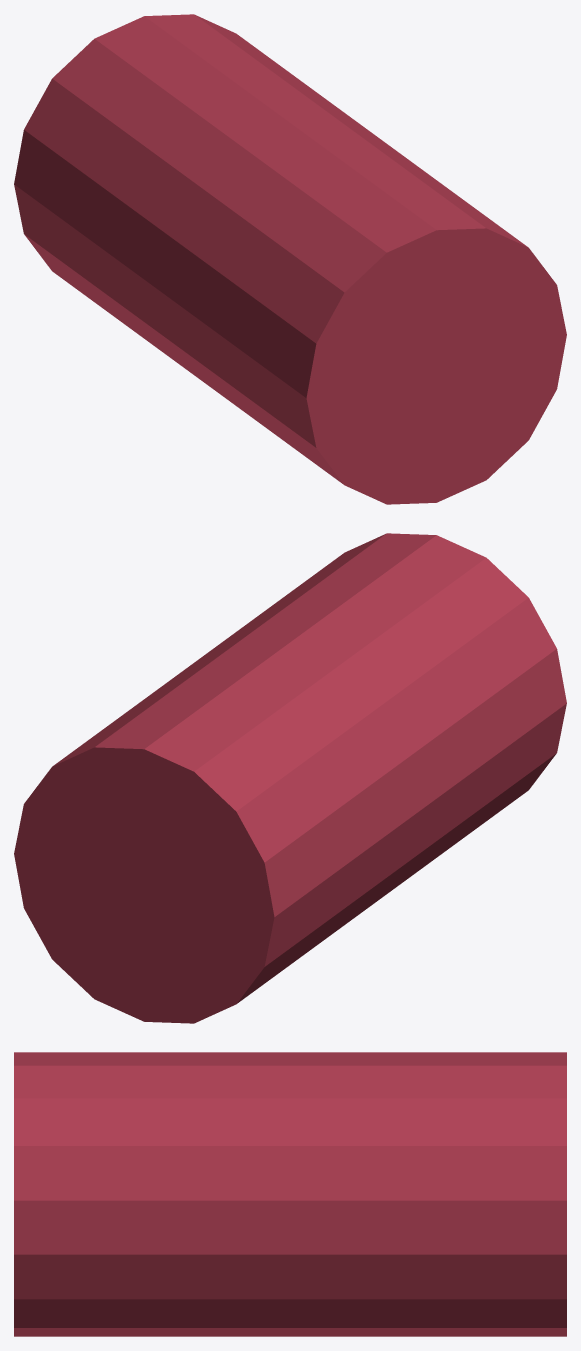
Rendered from fire_hydrant_v01.glb.
3 renders of one model, top to bottom at view 1: azimuth 30°, elevation 25°; view 2: azimuth 150°, elevation 25°; view 3: azimuth 270°, elevation 25°, orthographic. The views are drawn at different scales.
Parts seen in each view (by area): view 1: cylinder_0; view 2: cylinder_0; view 3: cylinder_0.
Boxes of the visible parts, left/top/right/bottom form: cylinder_0: left=14, top=14, right=566, bottom=504; cylinder_0: left=14, top=533, right=566, bottom=1023; cylinder_0: left=14, top=1052, right=566, bottom=1336.
Bounding box in the file's own units: 0.36 × 0.36 × 0.7.
